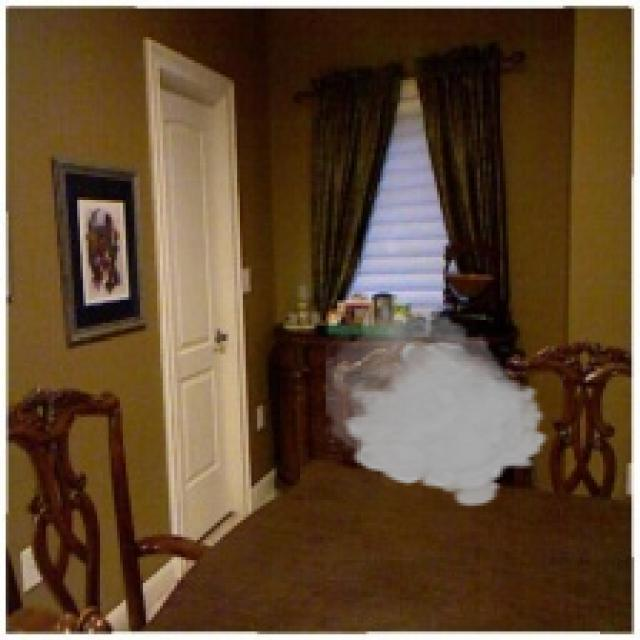Smoke: (326, 297, 552, 509)
